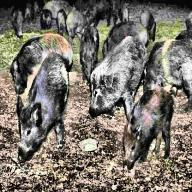boar: (13, 60, 77, 167), (118, 85, 182, 172), (84, 34, 146, 121)
